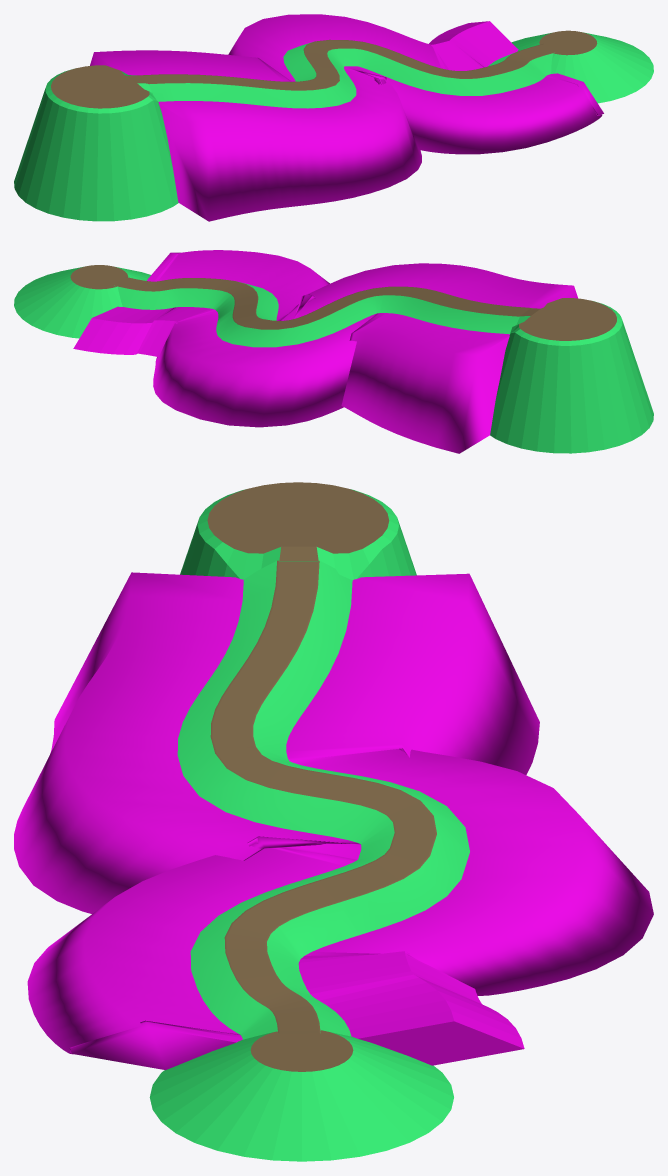
The model's file is Lvl 1-1.fbx.
3 views of the same model, one above another, from view 1: azimuth 30°, elevation 25°; view 2: azimuth 150°, elevation 25°; view 3: azimuth 270°, elevation 25° (orthographic). The views are drawn at different scales.
Visible parts, largest first — view 1: Killbox, Final plateau; view 2: Killbox, Final plateau; view 3: Killbox, Final plateau.
Boxes of the visible parts, x1,y1,x2,y2 form: Killbox: (90, 14, 603, 221); Final plateau: (14, 30, 653, 221); Killbox: (73, 250, 578, 453); Final plateau: (14, 265, 653, 453); Killbox: (14, 572, 653, 1070); Final plateau: (149, 482, 469, 1161).
Size of the model in its own units: 1255 by 189 by 635.
